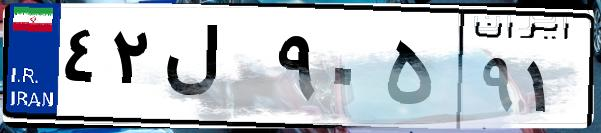0: (330, 28, 385, 110)
1: (525, 38, 570, 115)
2: (110, 28, 158, 98)
4: (57, 26, 110, 100)
5: (385, 28, 445, 110)
9: (270, 28, 330, 110), (475, 38, 525, 113)
ل: (158, 20, 270, 120)
